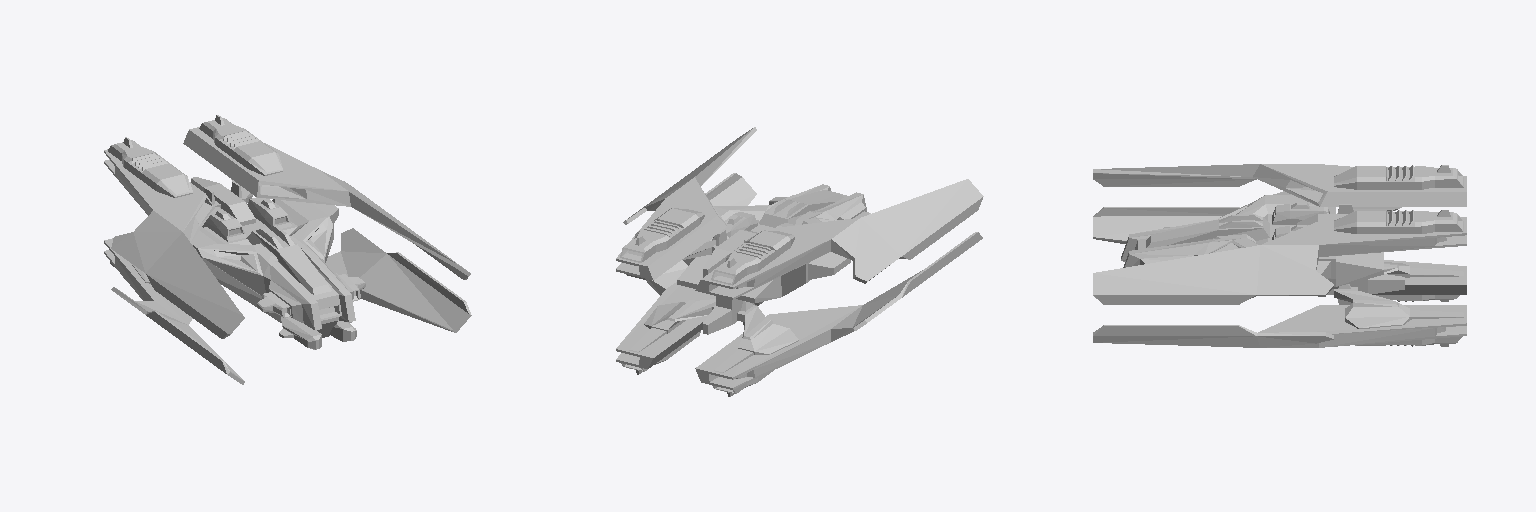
File: starship.obj
3 renders of one model, left to right at view 1: azimuth 30°, elevation 25°; view 2: azimuth 150°, elevation 25°; view 3: azimuth 270°, elevation 25°, orthographic.
Visible parts, largest first — view 1: SciFi_Fighter_MK6; view 2: SciFi_Fighter_MK6; view 3: SciFi_Fighter_MK6.
Boxes of the visible parts, <box> form: SciFi_Fighter_MK6: <box>104,115,471,384</box>; SciFi_Fighter_MK6: <box>616,127,983,396</box>; SciFi_Fighter_MK6: <box>1093,164,1466,347</box>.
Size of the model in its own units: 985 by 526 by 1309.